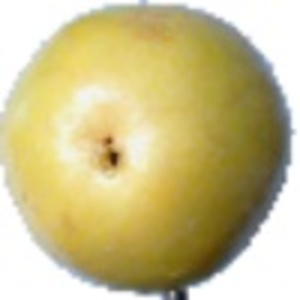maracujá: (1, 1, 297, 300)
